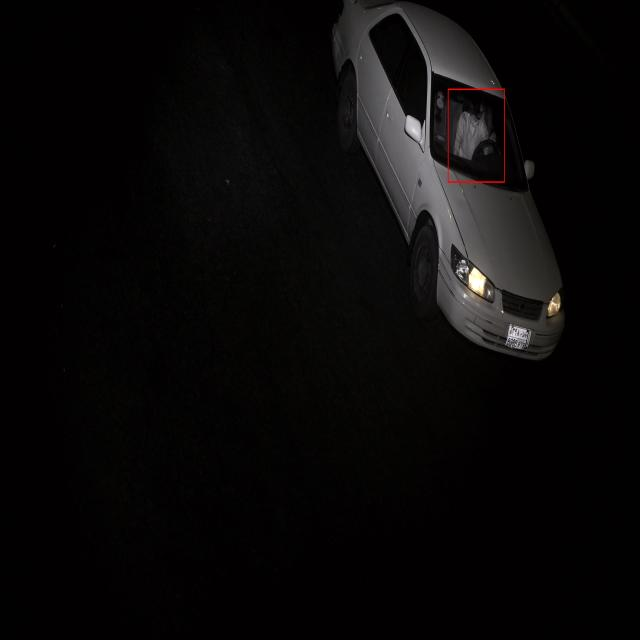windshield: (424, 66, 528, 196)
